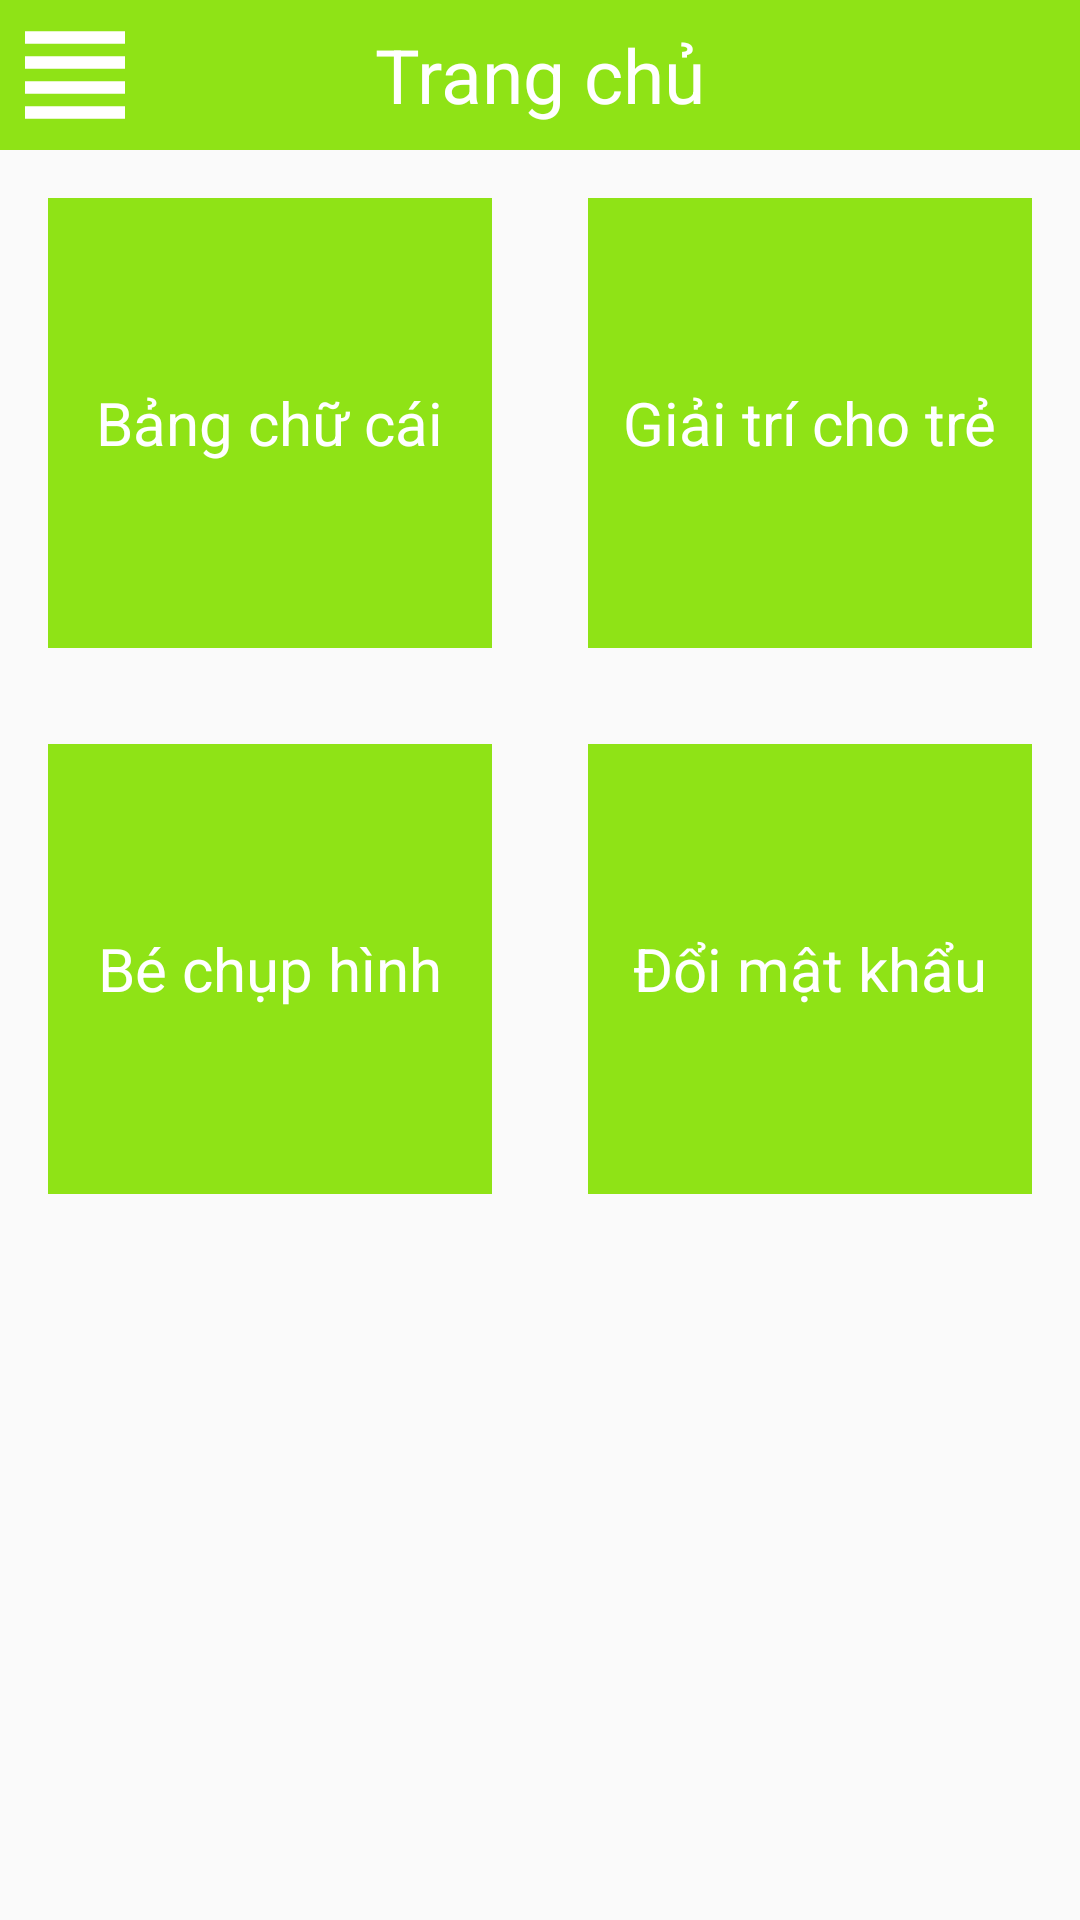

Icon bounding boxes for this 1080 × 1920 phone screenshot, format bbox=[x1, y1, x2, y2]:
menu: bbox=[25, 31, 125, 119]
